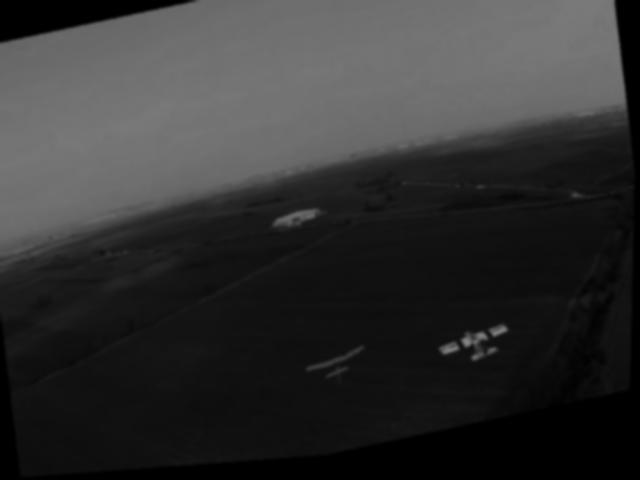hedef: (433, 315, 520, 383), (300, 344, 377, 399)
